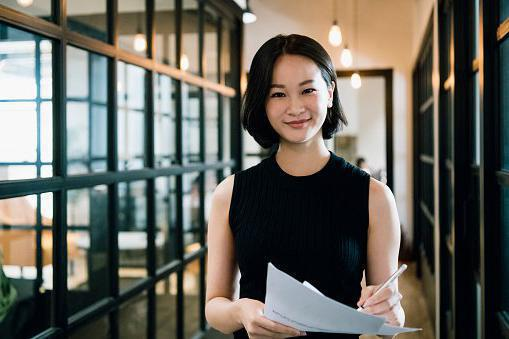Sober: (270, 62, 328, 138)
